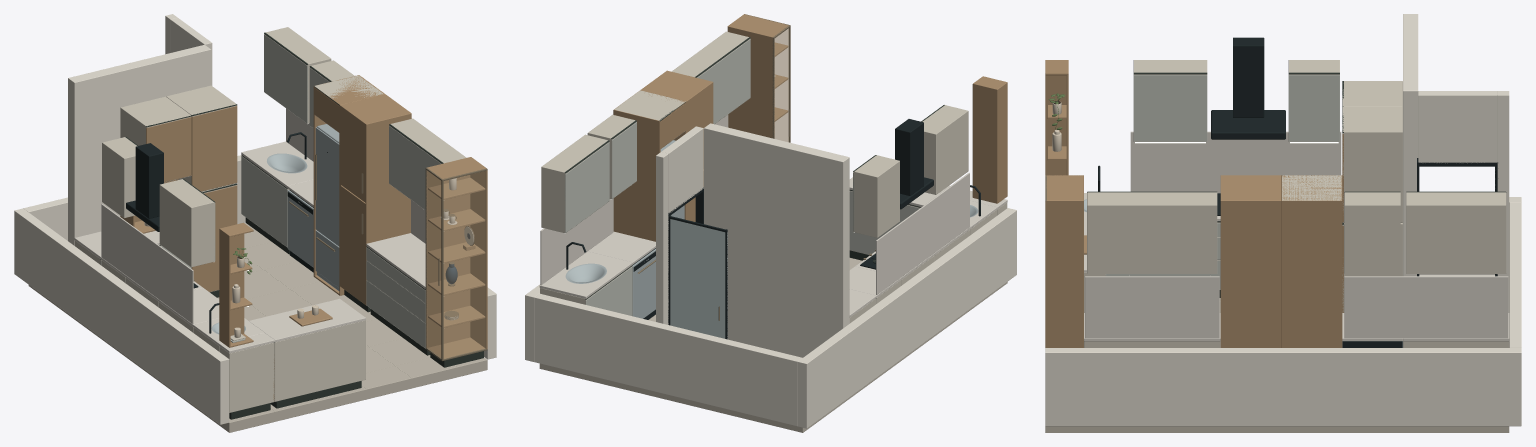
Rendered from user_sketch_kitchen-5b717ee19ba4.glb.
The picture shows the model from 3 angles, left to right: view 1: azimuth 30°, elevation 25°; view 2: azimuth 150°, elevation 25°; view 3: azimuth 270°, elevation 25°; orthographic projection. The views are drawn at different scales.
Visible parts, largest first — view 1: Surface 10, Surface 3, Surface 7, Surface 2, Surface 1, Surface 9, Surface 19, Surface 11, Surface 8, Surface 4, Surface 6, Surface 16; view 2: Surface 3, Surface 10, Surface 7, Surface 2, Surface 9, Surface 5, Surface 4, Surface 11, Surface 1, Surface 19, Surface 6, Surface 8; view 3: Surface 3, Surface 7, Surface 10, Surface 2, Surface 9, Surface 4, Surface 1, Surface 8.
Boxes of the visible parts, x1,y1,x2,y2 form: Surface 10: (120,75,487,400); Surface 3: (14,14,496,424); Surface 7: (75,27,466,412); Surface 2: (74,108,425,353); Surface 1: (28,223,487,432); Surface 9: (100,34,440,348); Surface 19: (427,171,485,358); Surface 11: (211,124,339,334); Surface 8: (100,32,483,419); Surface 4: (126,132,327,333); Surface 6: (193,154,487,361); Surface 16: (144,222,318,337); Surface 3: (525,123,1016,428); Surface 10: (613,14,1007,241); Surface 7: (540,31,1007,323); Surface 2: (539,114,1007,317); Surface 9: (564,39,919,316); Surface 5: (670,219,727,338); Surface 4: (566,119,980,339); Surface 11: (565,140,978,318); Surface 1: (539,258,1007,432); Surface 19: (774,28,788,142); Surface 6: (637,14,875,320); Surface 8: (564,37,944,299); Surface 3: (1045,14,1521,426); Surface 7: (1084,60,1509,347); Surface 10: (1045,60,1343,347); Surface 2: (1084,131,1509,341); Surface 9: (1105,75,1339,289); Surface 4: (1098,37,1497,347); Surface 1: (1045,298,1509,432); Surface 8: (1087,72,1506,297).
Bounding box in the file's own units: 3.64 × 2.98 × 4.7.
